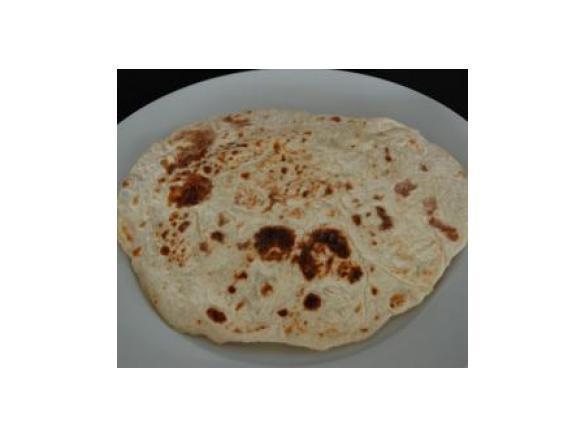chapati: (119, 110, 466, 349)
